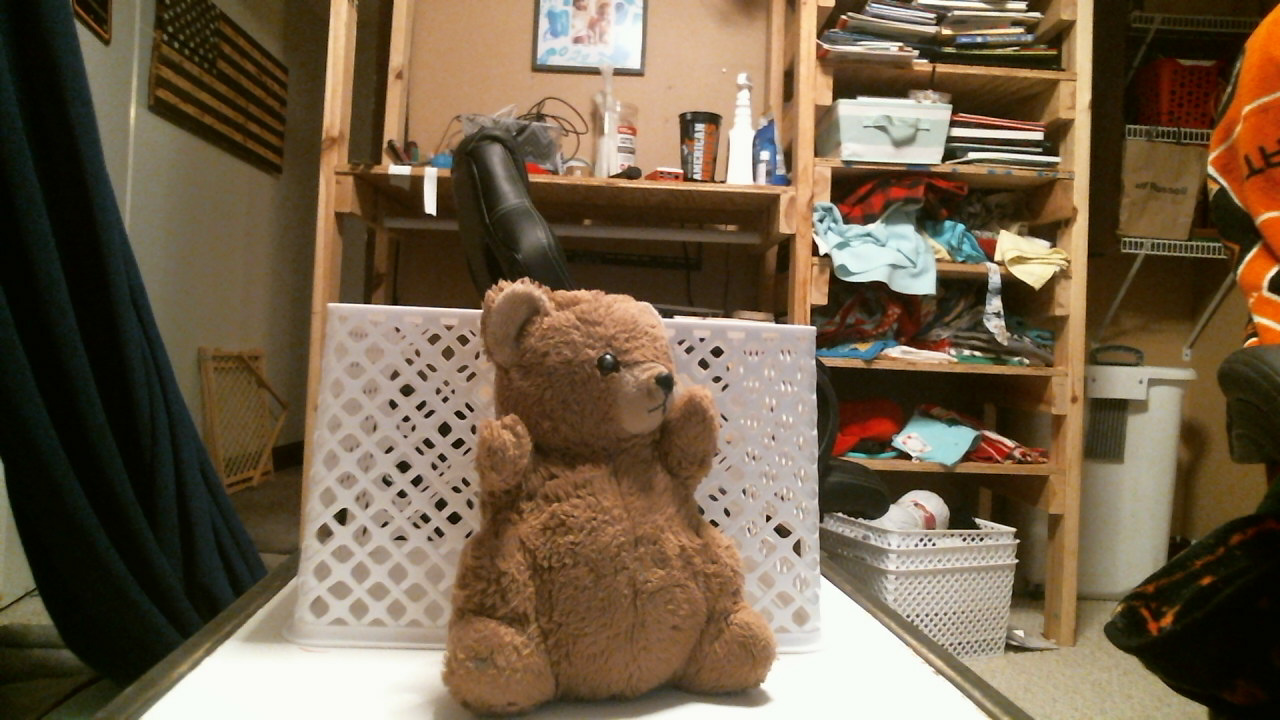Little_Mister_Bear: (593, 345, 676, 462)
